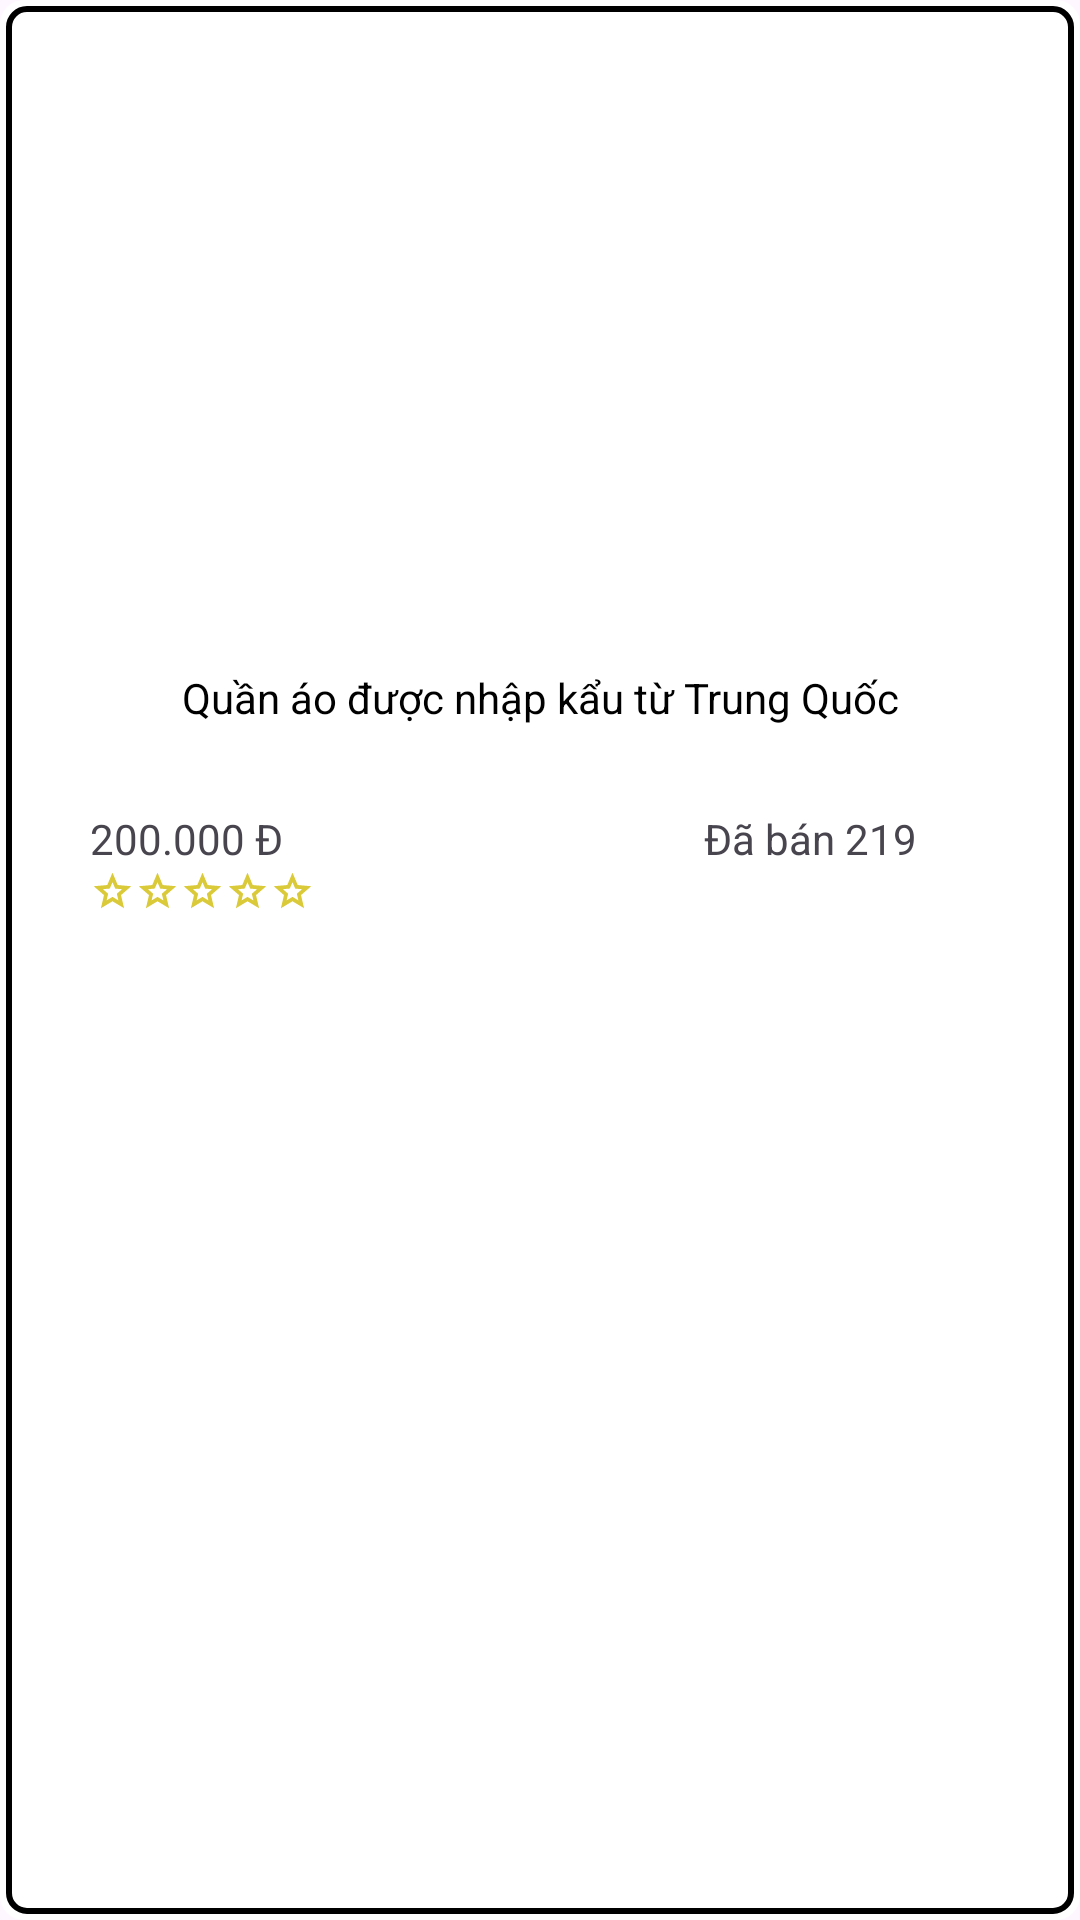

Named icons in this screenshot (1080x1920) and their bounding boxes, (x1, y1, x2, y2):
star: (94, 873, 131, 908), (139, 873, 176, 908), (184, 873, 221, 908), (229, 873, 266, 908), (274, 873, 311, 908)
